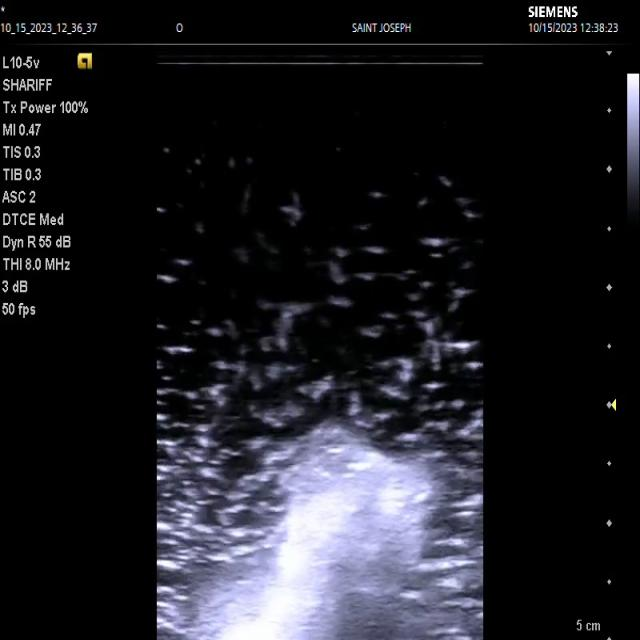tissue: (224, 427, 407, 640)
